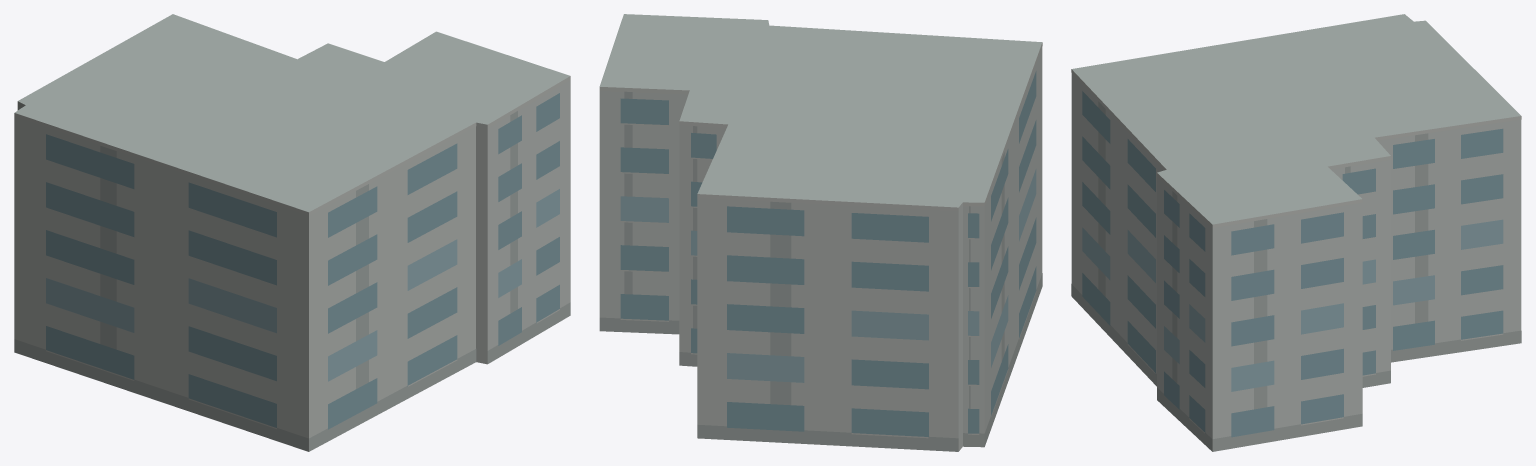
File: survey-upis-32842228.glb
3 views of the same model, side by side, from view 1: azimuth 30°, elevation 25°; view 2: azimuth 150°, elevation 25°; view 3: azimuth 270°, elevation 25° (orthographic). The views are drawn at different scales.
Visible parts, largest first — view 1: survey-upis-32842228.tmp; view 2: survey-upis-32842228.tmp; view 3: survey-upis-32842228.tmp.
Part boxes in pixels (x1,y1,x2,y2): survey-upis-32842228.tmp: (14, 14, 570, 451); survey-upis-32842228.tmp: (599, 14, 1042, 451); survey-upis-32842228.tmp: (1071, 14, 1521, 451).
Size of the model in its own units: 30.31 by 15.25 by 27.37.
